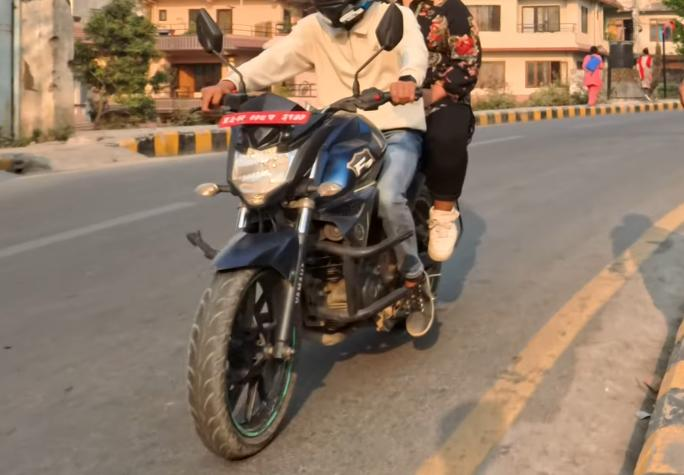bike: (170, 0, 469, 470)
